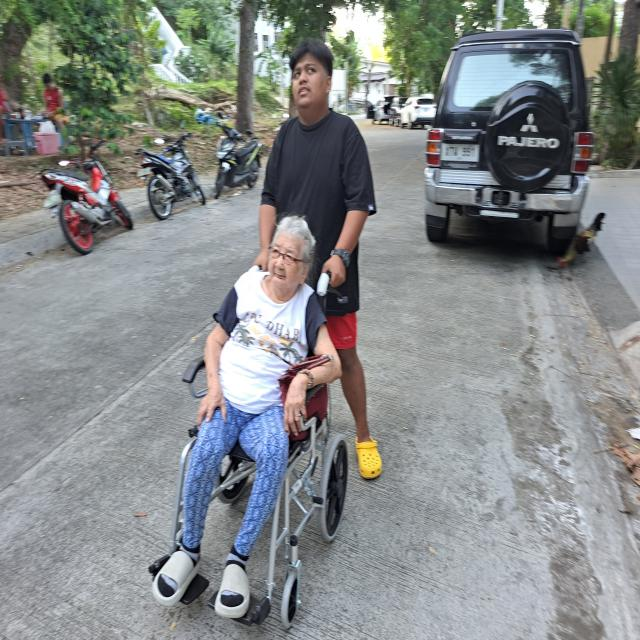wheelchairs: (148, 265, 350, 628)
